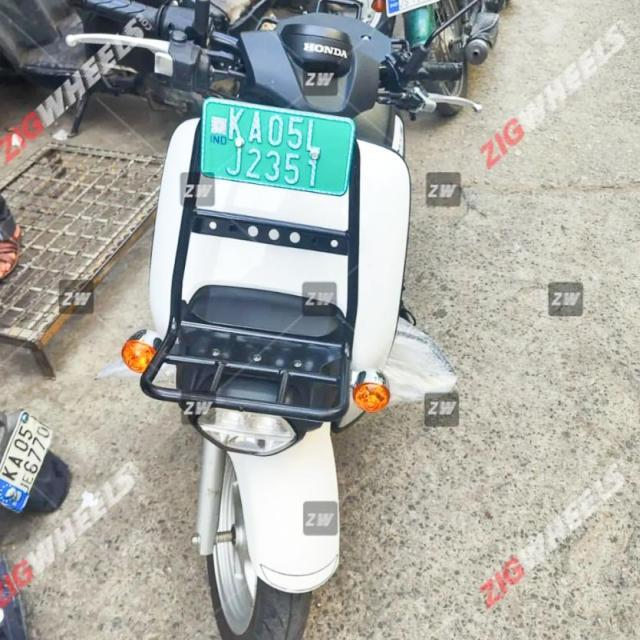plate: (197, 95, 355, 197)
